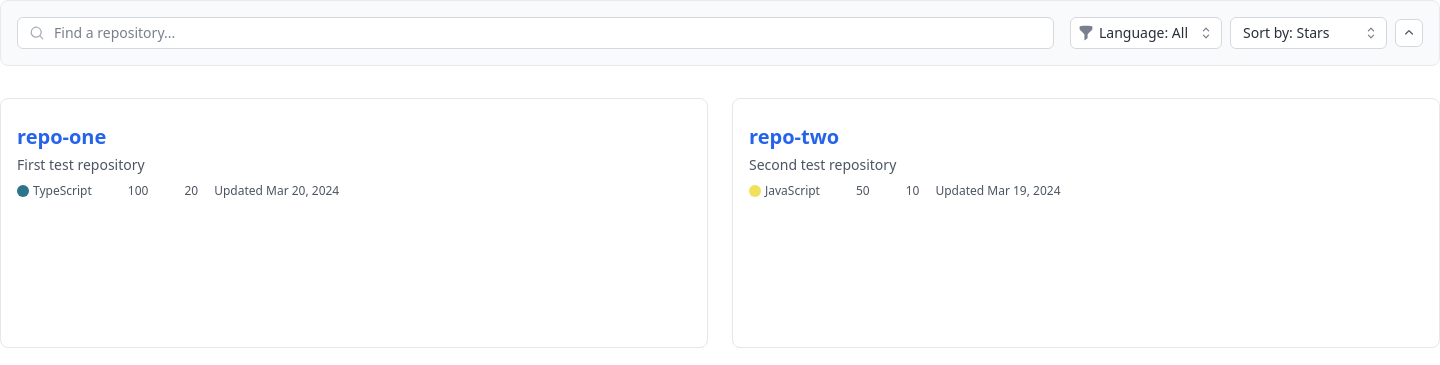
Test: RepositoryList › filters repositories by language
Select "TypeScript" in the dropdown named "filter by language". click: (1146, 33)
box: 1070,17 -> 1222,49
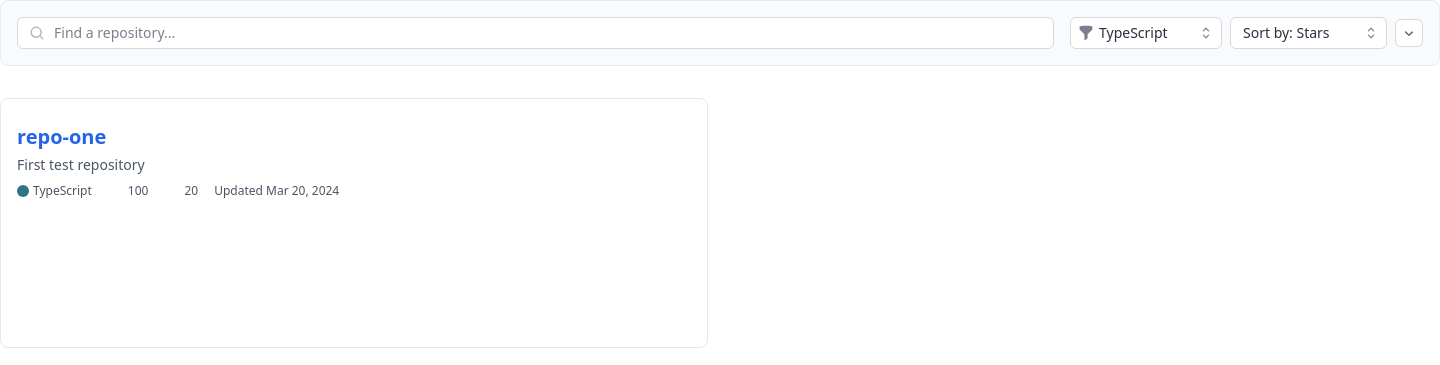
Check: the link "repo-one" is shown, box 17,123 -> 106,150
Check: the link "repo-two" is gone
